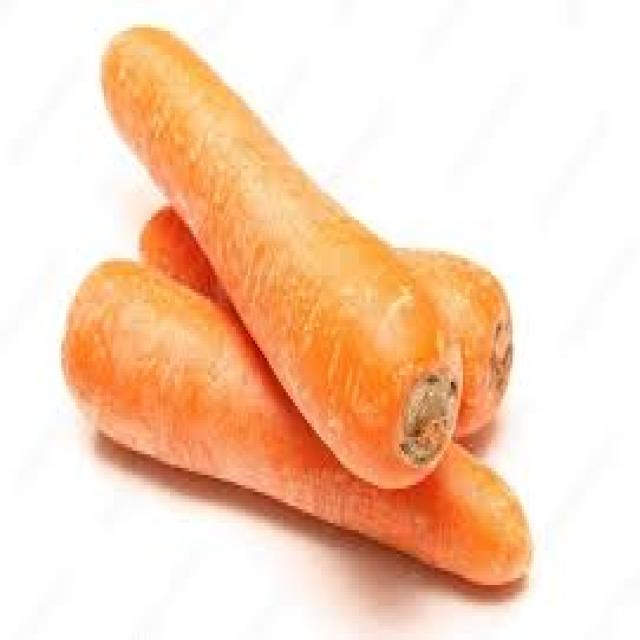Fresh_Carrot: (103, 27, 460, 489), (66, 262, 529, 584), (397, 250, 510, 438), (143, 208, 225, 303)
